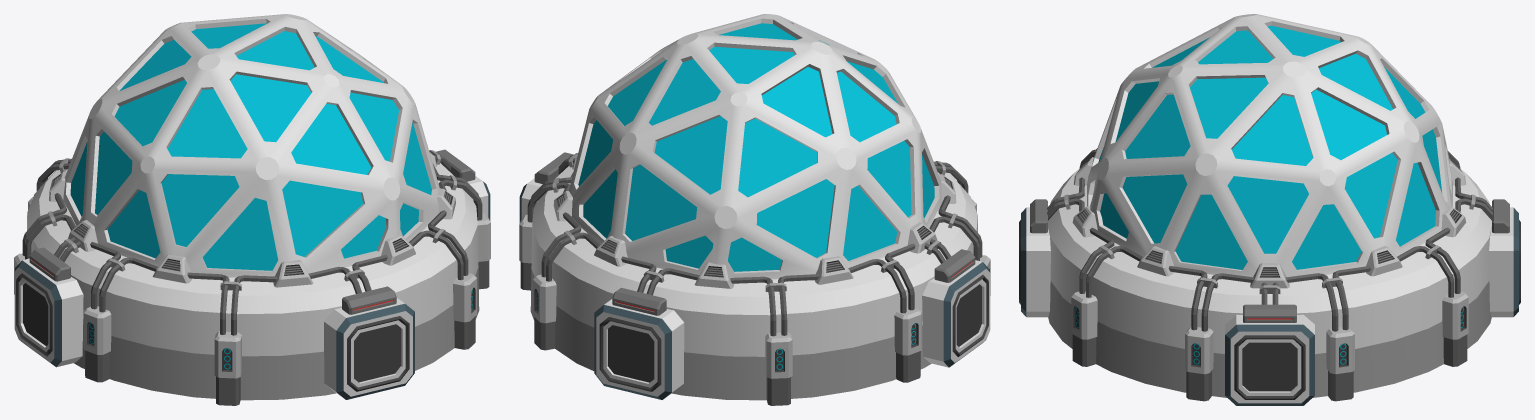
The model's file is section_009.fbx.
3 renders of one model, left to right at view 1: azimuth 30°, elevation 25°; view 2: azimuth 150°, elevation 25°; view 3: azimuth 270°, elevation 25°, orthographic.
Parts seen in each view (by area): view 1: section_009; view 2: section_009; view 3: section_009.
Boxes of the visible parts, x1,y1,x2,y2 form: section_009: [14, 14, 490, 405]; section_009: [519, 14, 990, 405]; section_009: [1019, 14, 1520, 405].
Size of the model in its own units: 2148 by 2148 by 1256.
